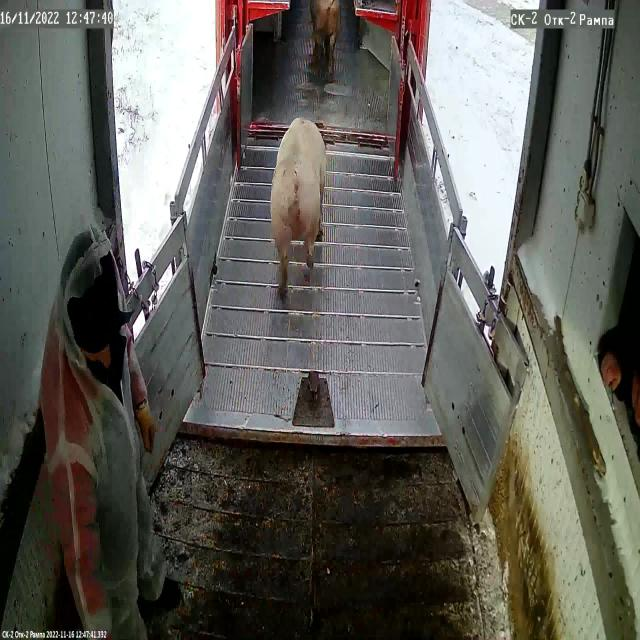pig: (270, 118, 326, 294)
